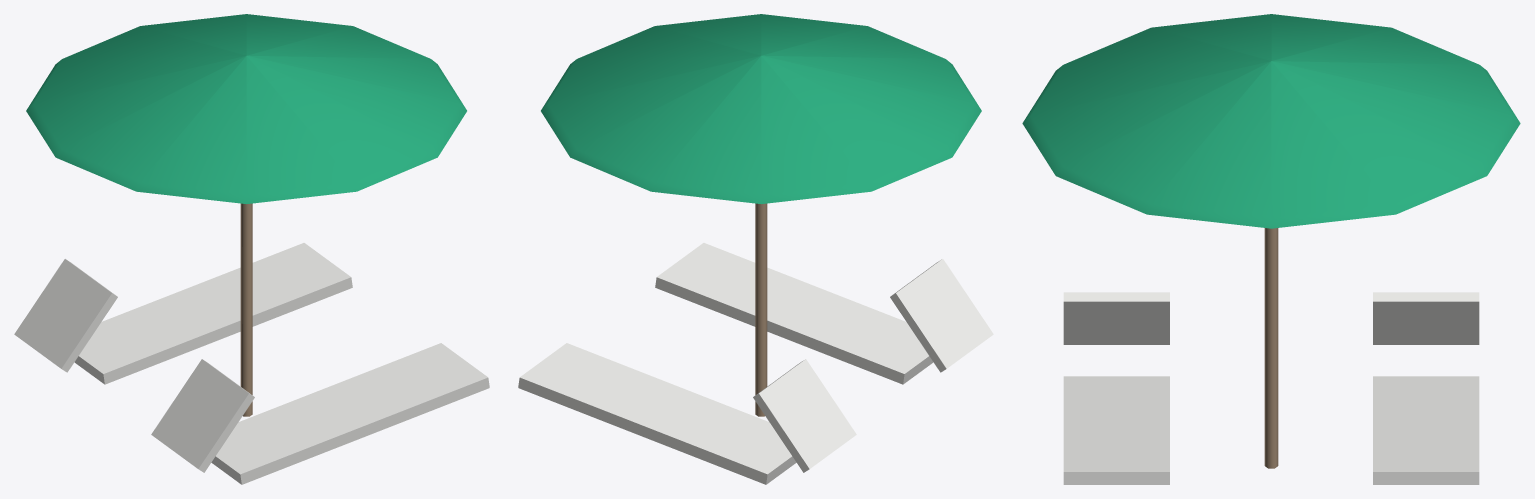
Rendered from SM_BeachUmbrella.fbx.
3 views of the same model, side by side, from view 1: azimuth 30°, elevation 25°; view 2: azimuth 150°, elevation 25°; view 3: azimuth 270°, elevation 25° (orthographic). The views are drawn at different scales.
Visible parts, largest first — view 1: SM_BeachUmbrella; view 2: SM_BeachUmbrella; view 3: SM_BeachUmbrella.
Part boxes in pixels (bbox=[...]): SM_BeachUmbrella: bbox=[14, 14, 489, 484]; SM_BeachUmbrella: bbox=[518, 14, 993, 484]; SM_BeachUmbrella: bbox=[1022, 14, 1520, 484].
Size of the model in its own units: 290 by 260 by 290.
